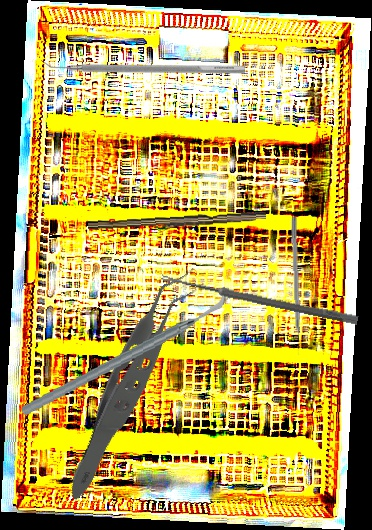Chopper: (11, 287, 241, 416)
Pusher: (289, 215, 302, 356)
Scalpel Handle: (87, 208, 267, 236)
Spatula Surgical: (40, 57, 245, 74)
Surgical Spoon: (160, 273, 359, 325)
Tissue Forceps: (2, 264, 269, 502)
